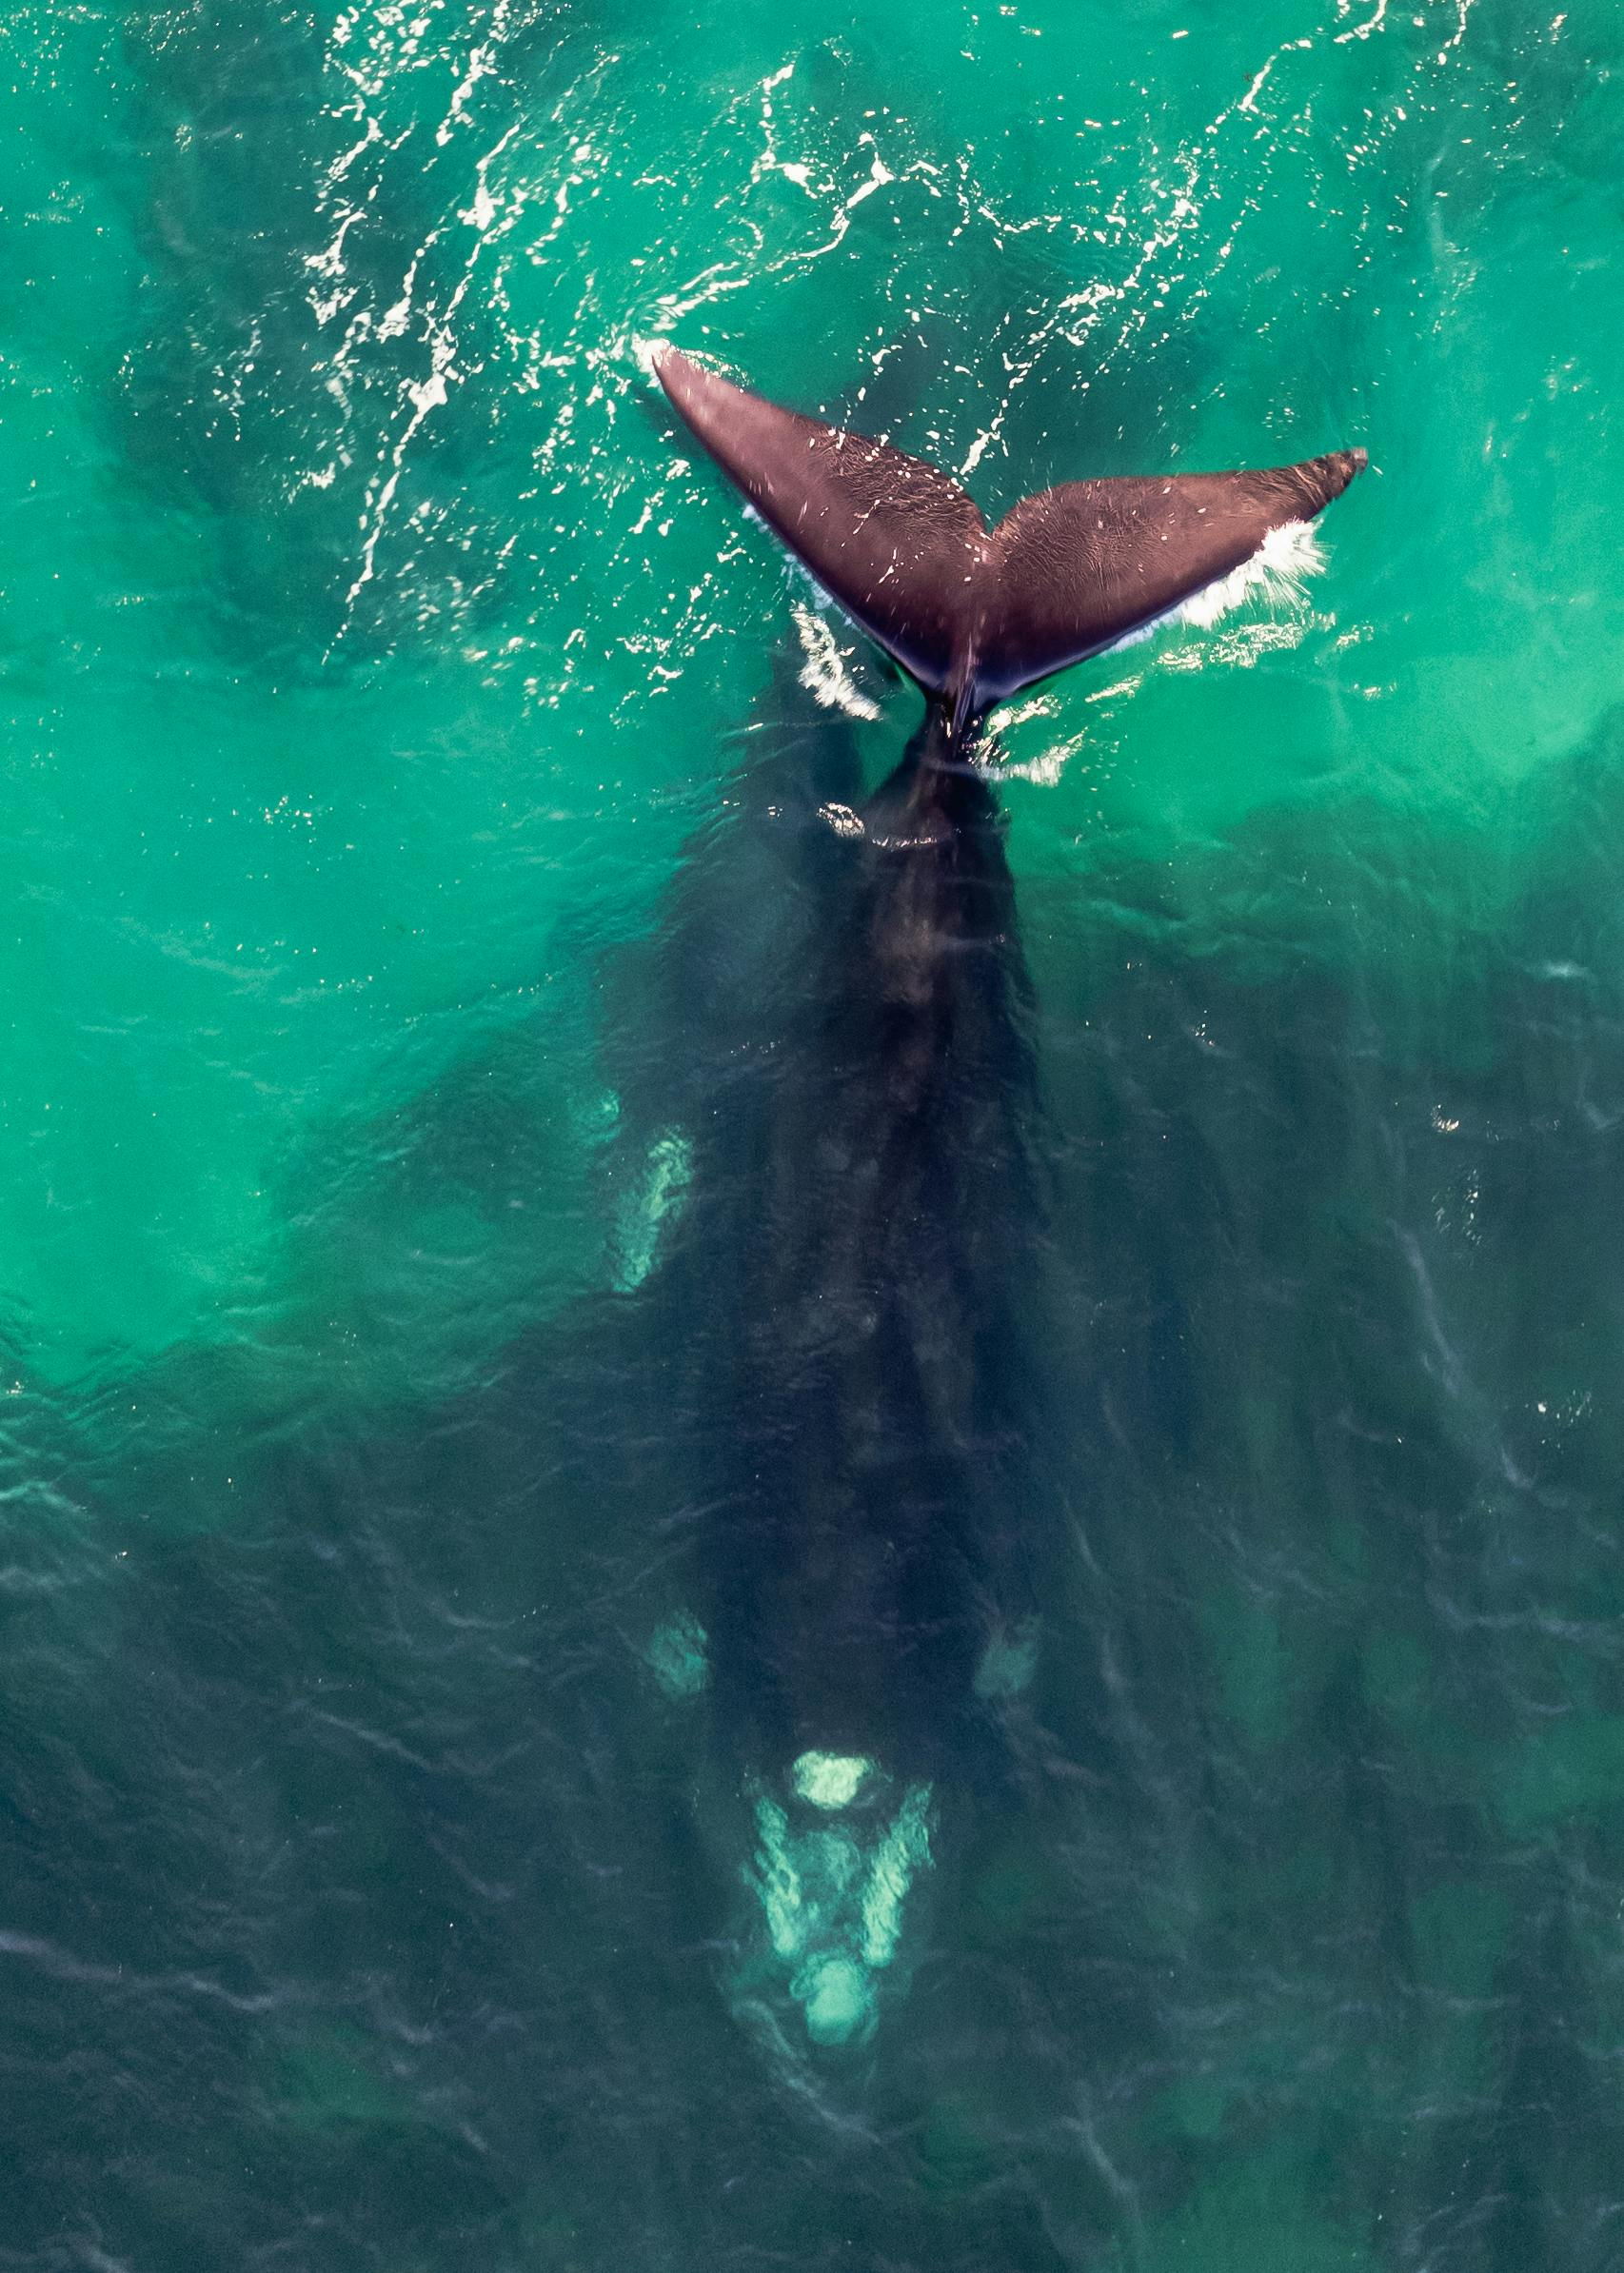whale: (650, 341, 1364, 2043)
